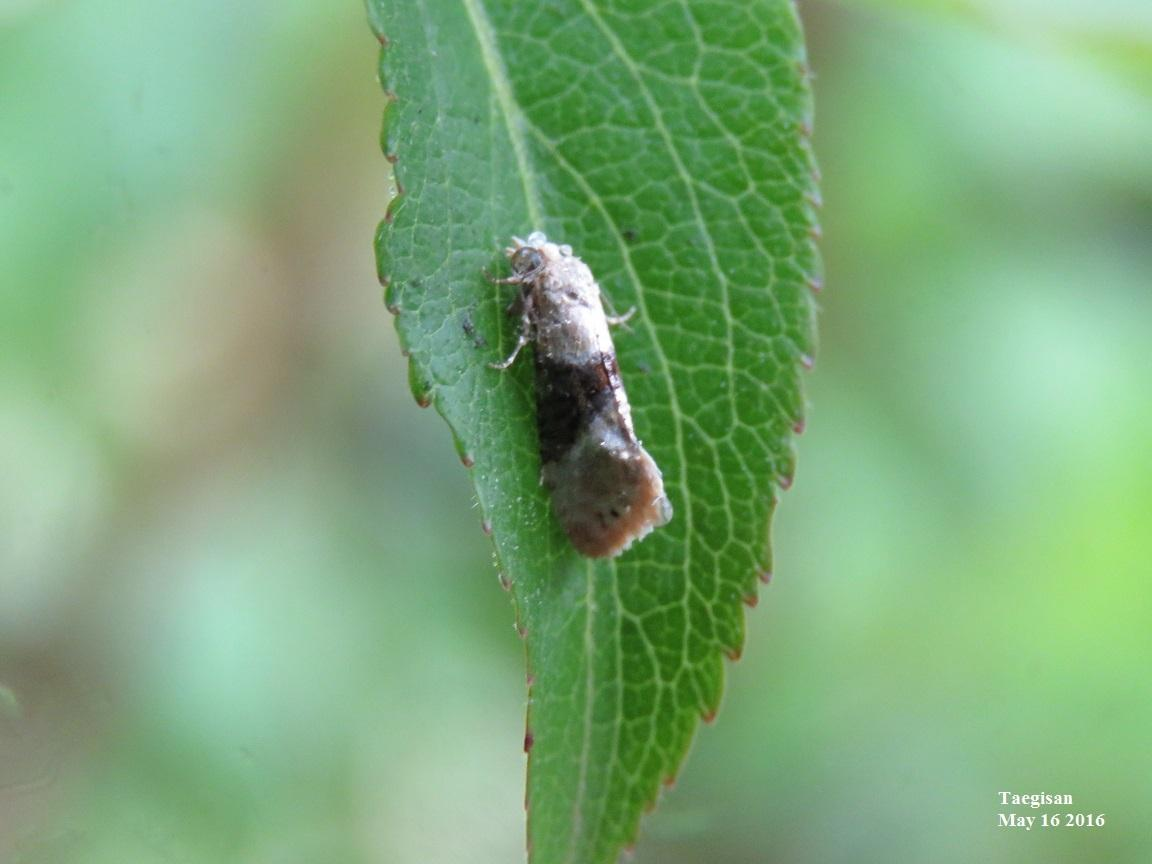Eupoecilia Ambiguella: (475, 227, 676, 564)
